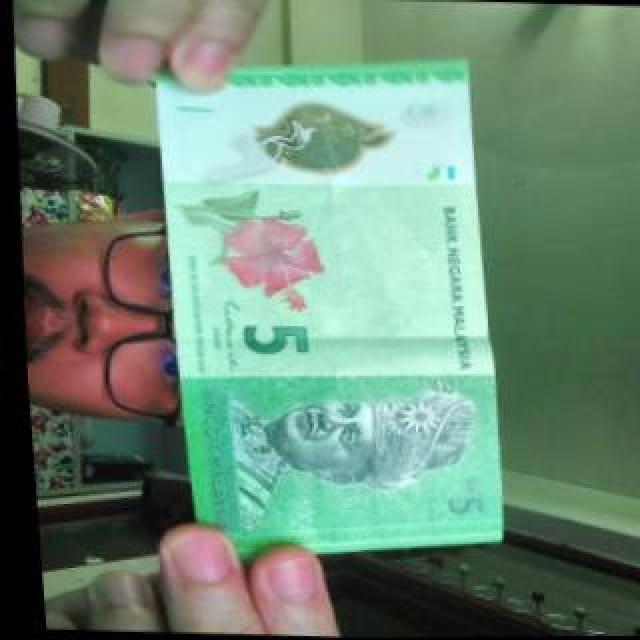5 Ringgit: (134, 42, 505, 548)
